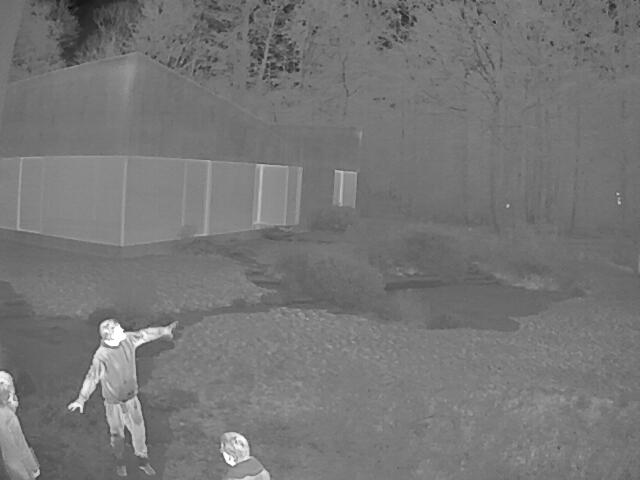person: (68, 319, 179, 479), (0, 369, 38, 479), (217, 433, 271, 479)
